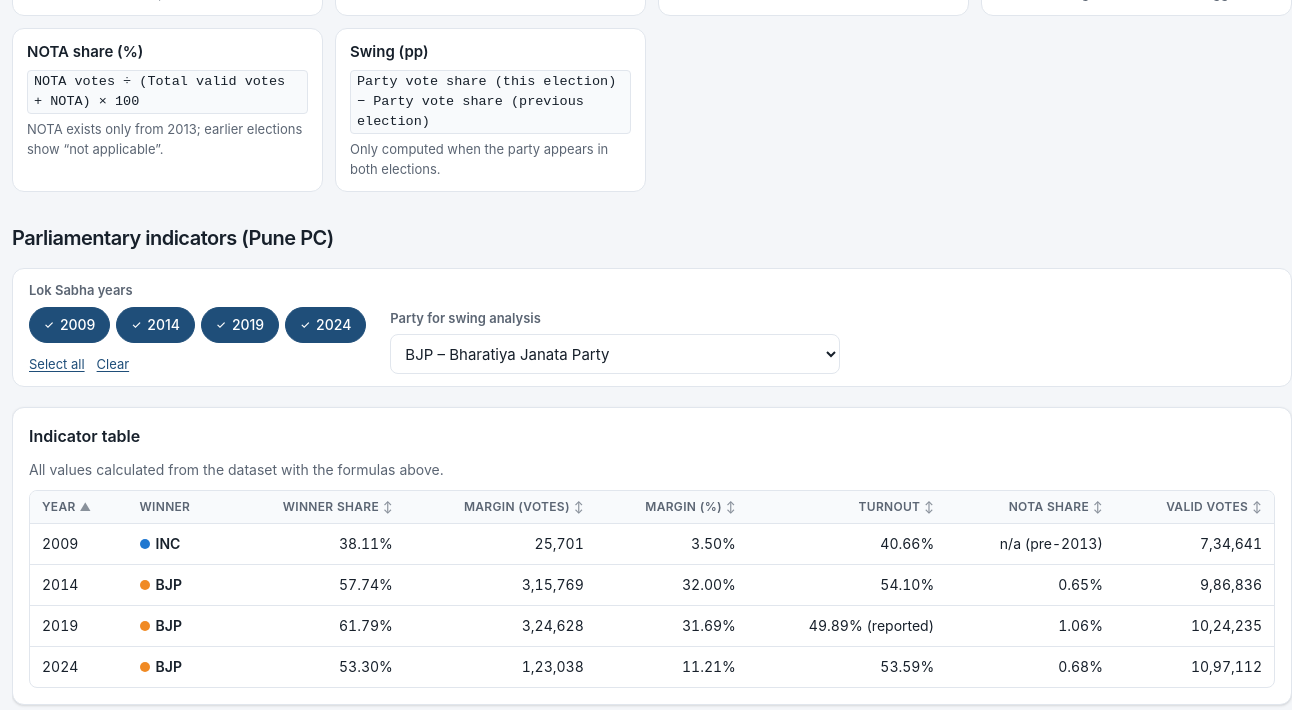
Test: Trends page (real data) › lists the formulas and computes the swing for the chosen party
This screenshot has width=1292, height=710.
(page scrolled)
Step 1. Select "INC – Indian National Congress" in the dropdown labelled "Party for swing analysis" → (615, 354), box [390,334,840,374]
(page scrolled)
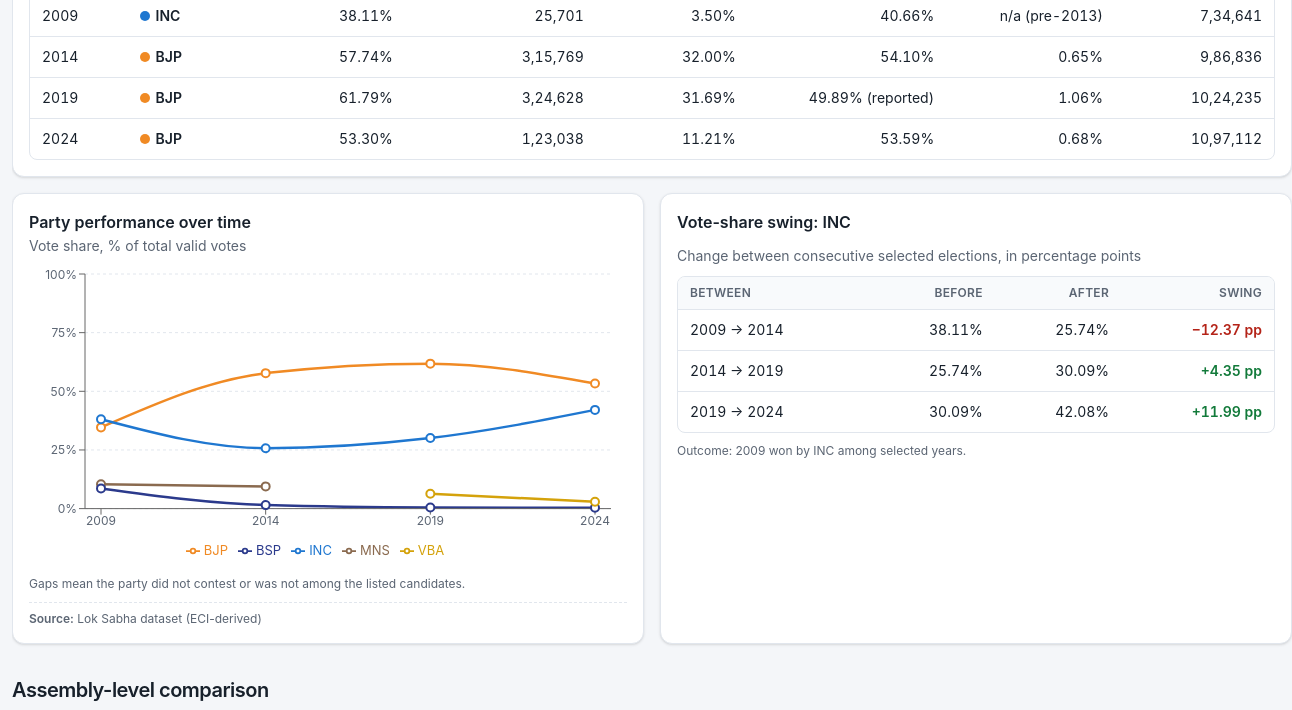
Check: the element named "INC swing" is shown, box [677,276,1275,433]
